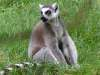cat: (1, 0, 79, 74)
